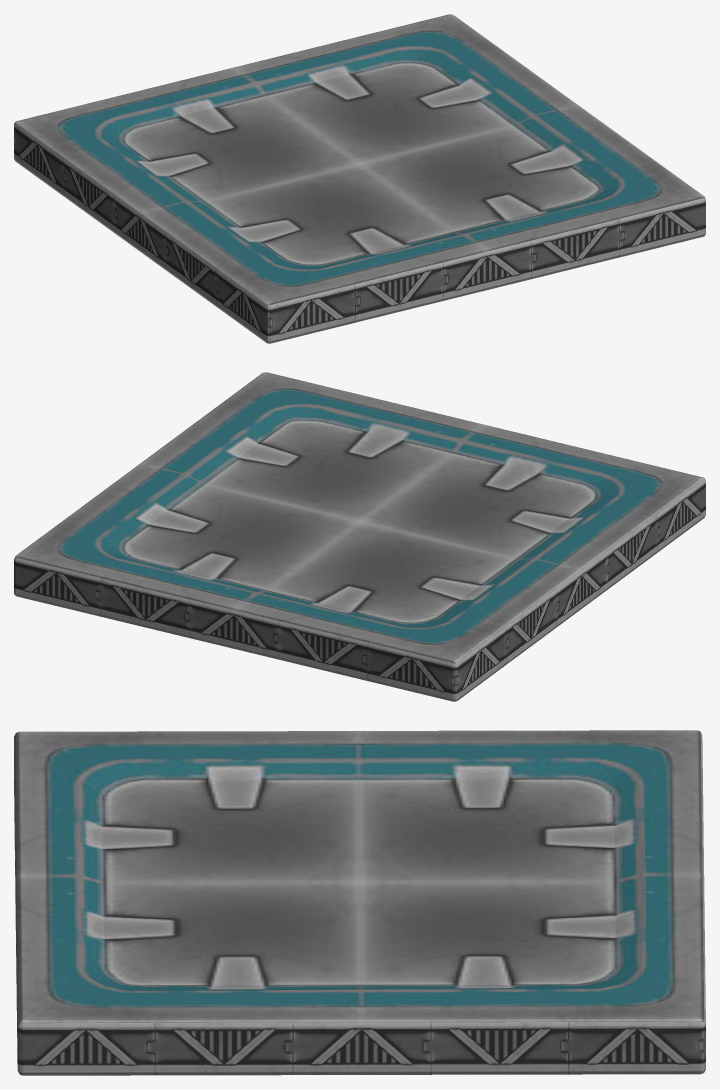
File: ARC1110020.fbx
3 renders of one model, top to bottom at view 1: azimuth 30°, elevation 25°; view 2: azimuth 150°, elevation 25°; view 3: azimuth 270°, elevation 25°, orthographic. The views are drawn at different scales.
Parts seen in each view (by area): view 1: smARC1110020; view 2: smARC1110020; view 3: smARC1110020.
Part boxes in pixels (bbox=[...]): smARC1110020: bbox=[14, 14, 705, 343]; smARC1110020: bbox=[14, 372, 705, 701]; smARC1110020: bbox=[14, 730, 705, 1075].
Size of the model in its own units: 101 by 8.84 by 100.
1 material, 1 textured.
